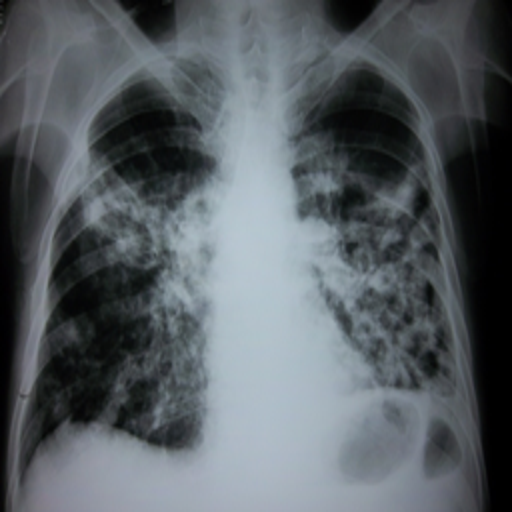TB: (61, 153, 194, 309), (345, 164, 434, 376)
